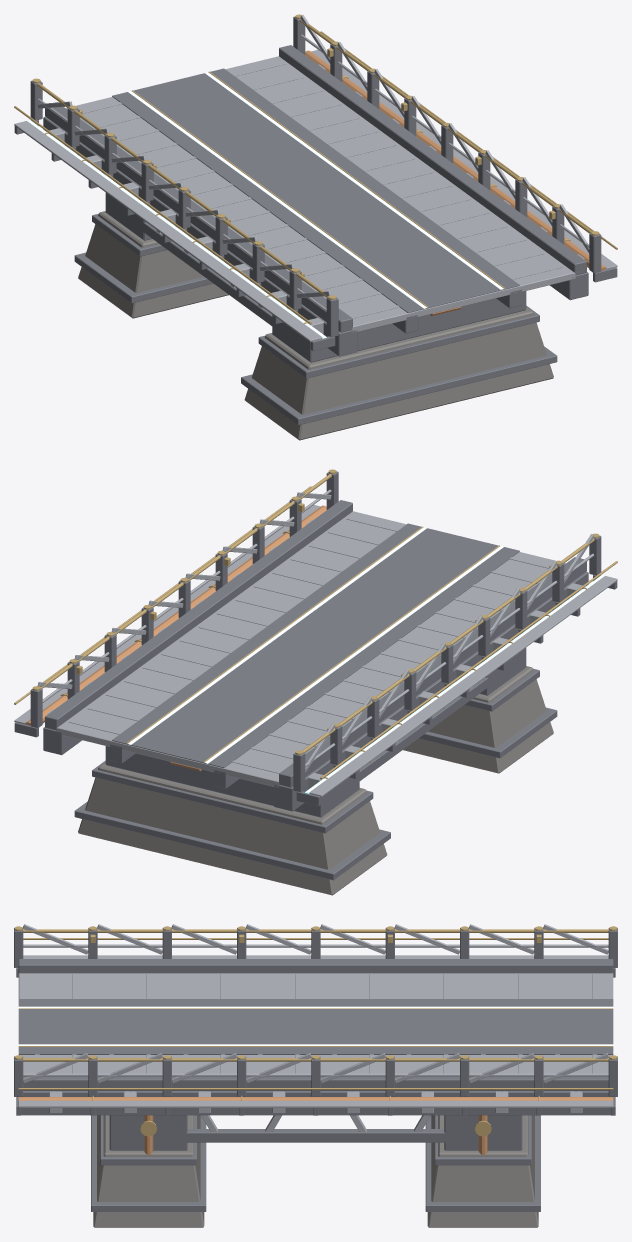
The model's file is gearforge_bridge_heavy.glb.
3 renders of one model, top to bottom at view 1: azimuth 30°, elevation 25°; view 2: azimuth 150°, elevation 25°; view 3: azimuth 270°, elevation 25°, orthographic.
Parts seen in each view (by area): view 1: gearforge_bridge_heavy_lod0; view 2: gearforge_bridge_heavy_lod0; view 3: gearforge_bridge_heavy_lod0.
Boxes of the visible parts, x1=… form: gearforge_bridge_heavy_lod0: x1=14, y1=14, x2=617, y2=440; gearforge_bridge_heavy_lod0: x1=14, y1=469, x2=617, y2=895; gearforge_bridge_heavy_lod0: x1=14, y1=924, x2=617, y2=1227.
Bounding box in the file's own units: 19.22 × 10.48 × 32.5.
